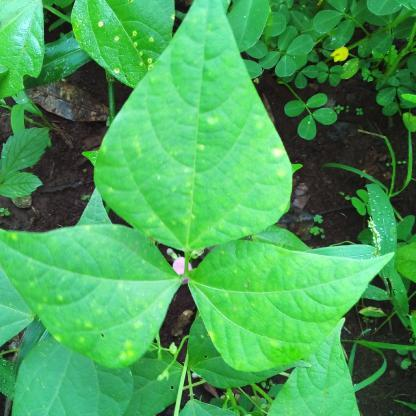Beans_Rust: (97, 0, 291, 255), (0, 225, 183, 369), (196, 250, 399, 373), (70, 0, 178, 87)
